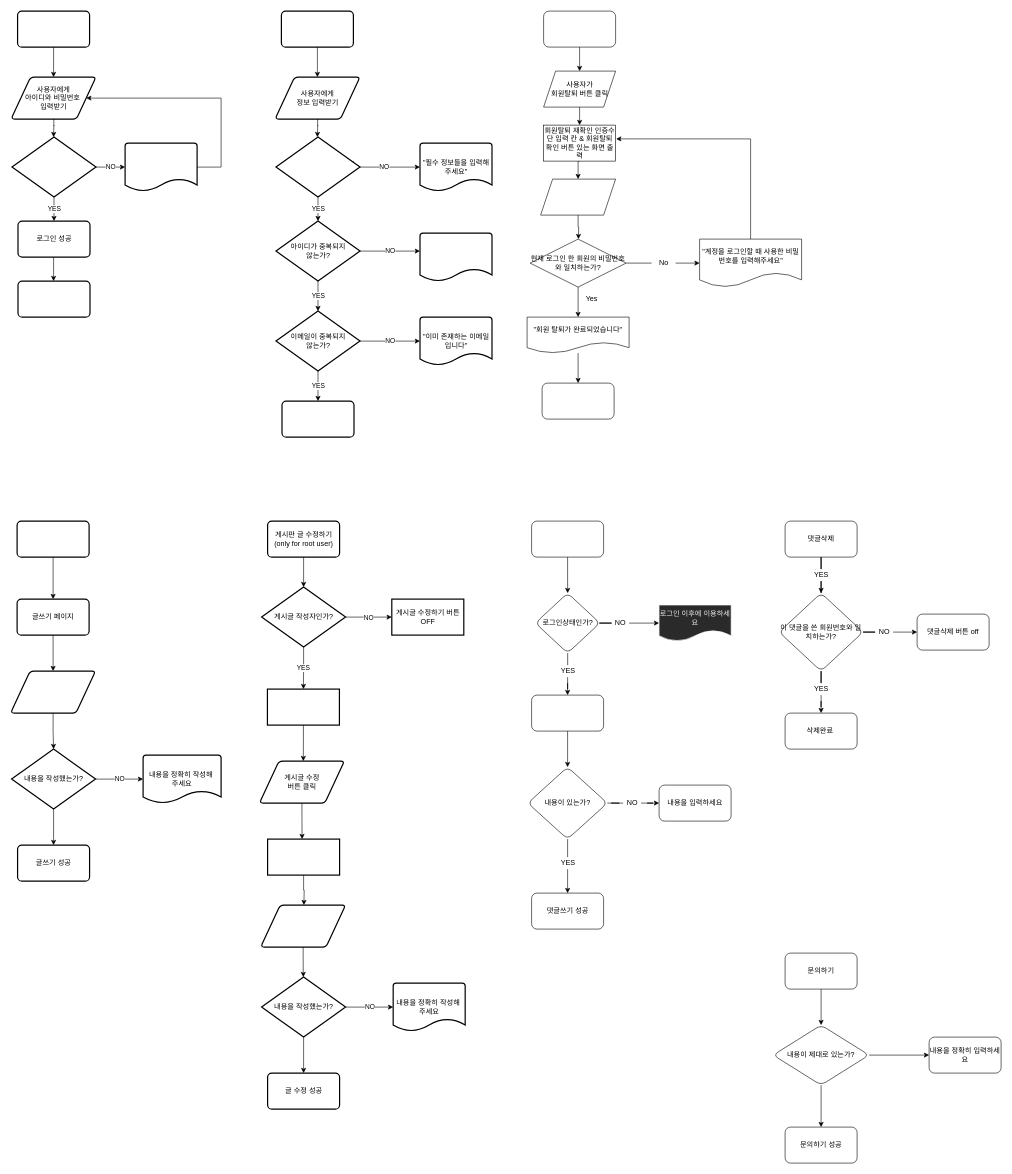
The diagram is 1012 pixels wide and 1174 high, and some of its shapes have lost their labels. Here are the shapes that lost their labels. From the top down, the centre of each, then its label:
pixel 53 28: 로그인
pixel 317 28: 회원가입
pixel 579 28: 회원 탈퇴
pixel 53 166: DB에서 유효한 아이디와 비밀번호 인가?
pixel 160 166: "아이디 혹은 비밀번호가 일치하지 않습니다"
pixel 317 166: 사용자가 필수 정보를 모두 작성하였는가?
pixel 578 196: 재확인 인증수단(비밀번호) 입력 및 버튼 클릭
pixel 455 256: "이미 존재하는 아이디 입니다"
pixel 53 298: 메인화면 이동
pixel 317 418: 회원가입 성공
pixel 578 400: 회원 탈퇴 성공
pixel 52 538: 포트폴리오 올리기(관리자만 사용가능)
pixel 567 538: 댓글쓰기
pixel 53 691: 사용자에게 제목, 내용등을 입력받기
pixel 303 706: 게시글 수정하기 버튼 On
pixel 567 712: 댓글쓰기 가능!
pixel 303 856: 게시글 내용 유지된 게시글 작성페이지
pixel 303 925: 게시글 수정 및 수정 버튼 클릭
